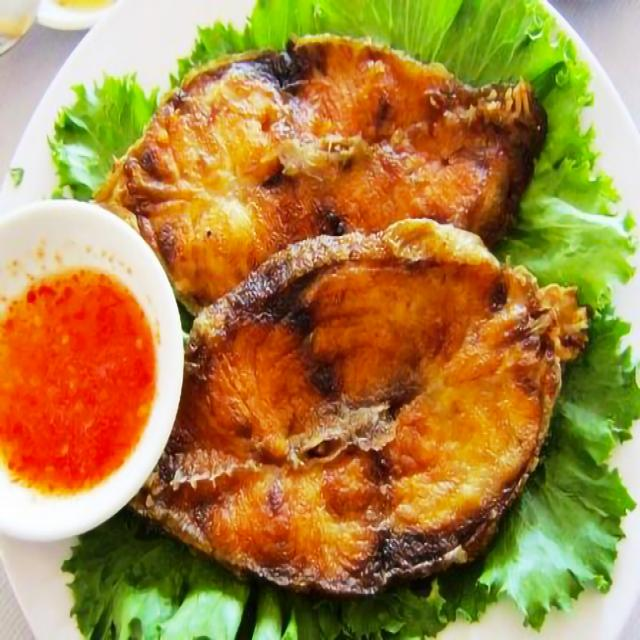ca chien: (133, 220, 586, 593), (98, 35, 544, 303)
nuoc mam: (0, 270, 155, 492)
rau: (62, 0, 639, 639), (42, 72, 165, 198)
